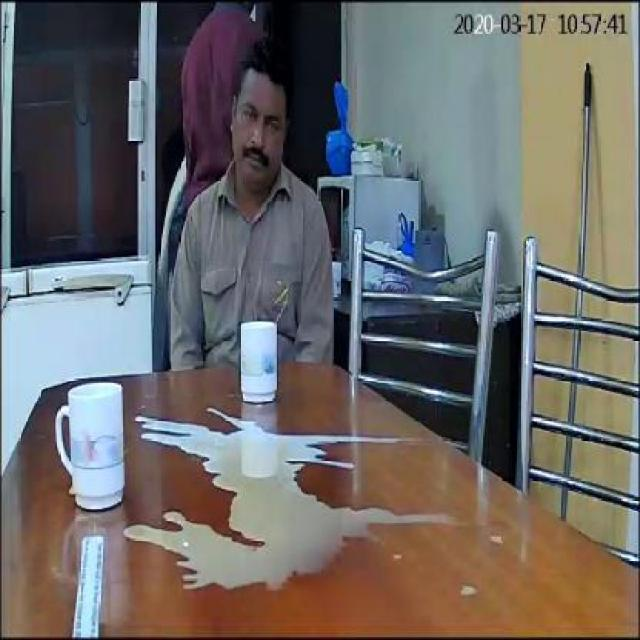spill: (120, 472, 452, 590)
